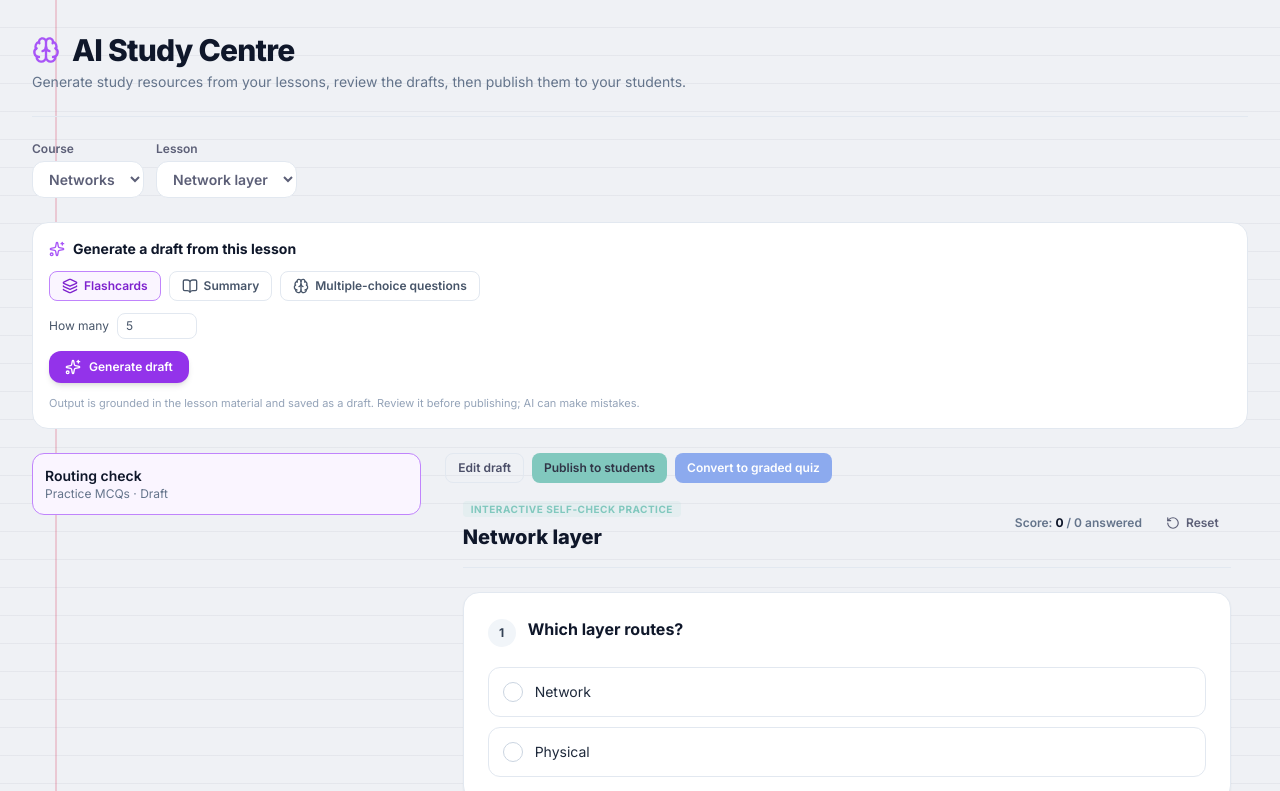
StudyCentrePage (instructor) › shows server validation problems when saving an edited draft
Click the button "Edit draft": click(485, 468) [445,452,524,482]
(page scrolled)
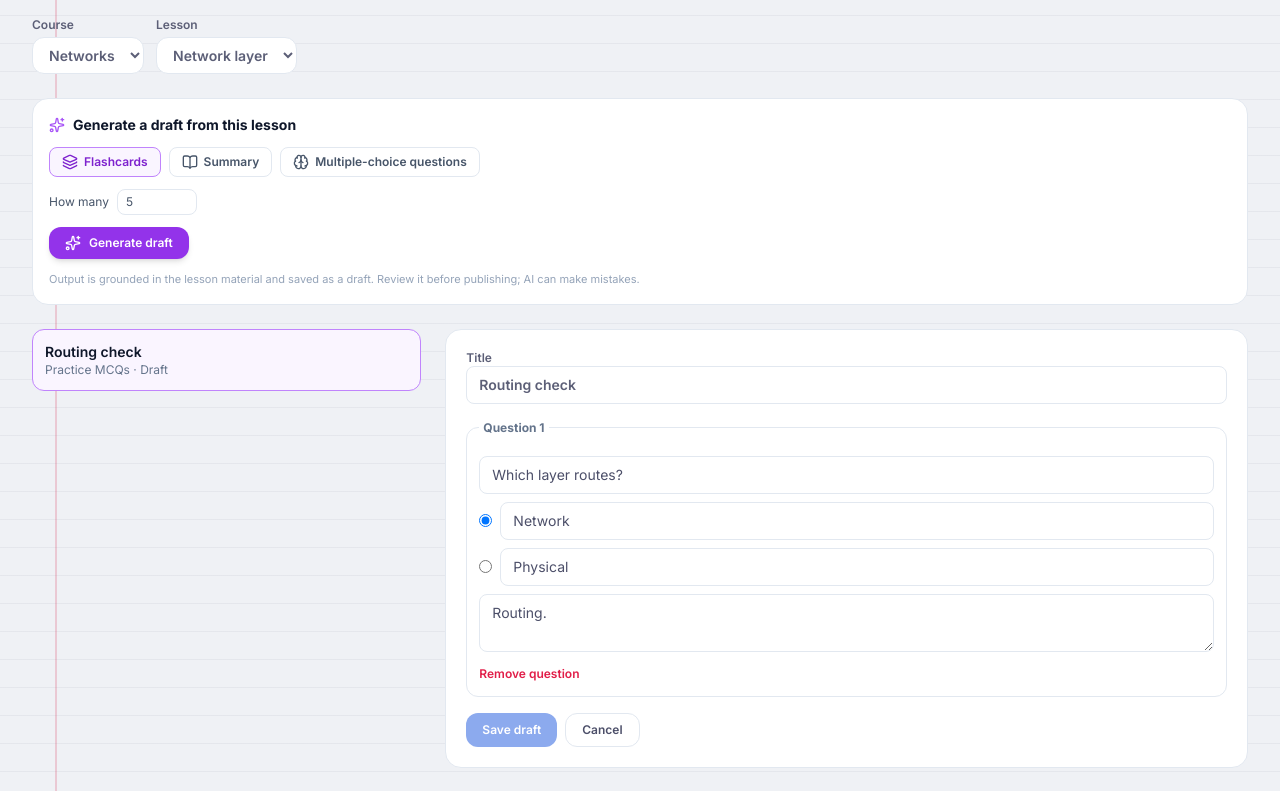
Click the button "Save draft": click(512, 730) [466,712,557,746]
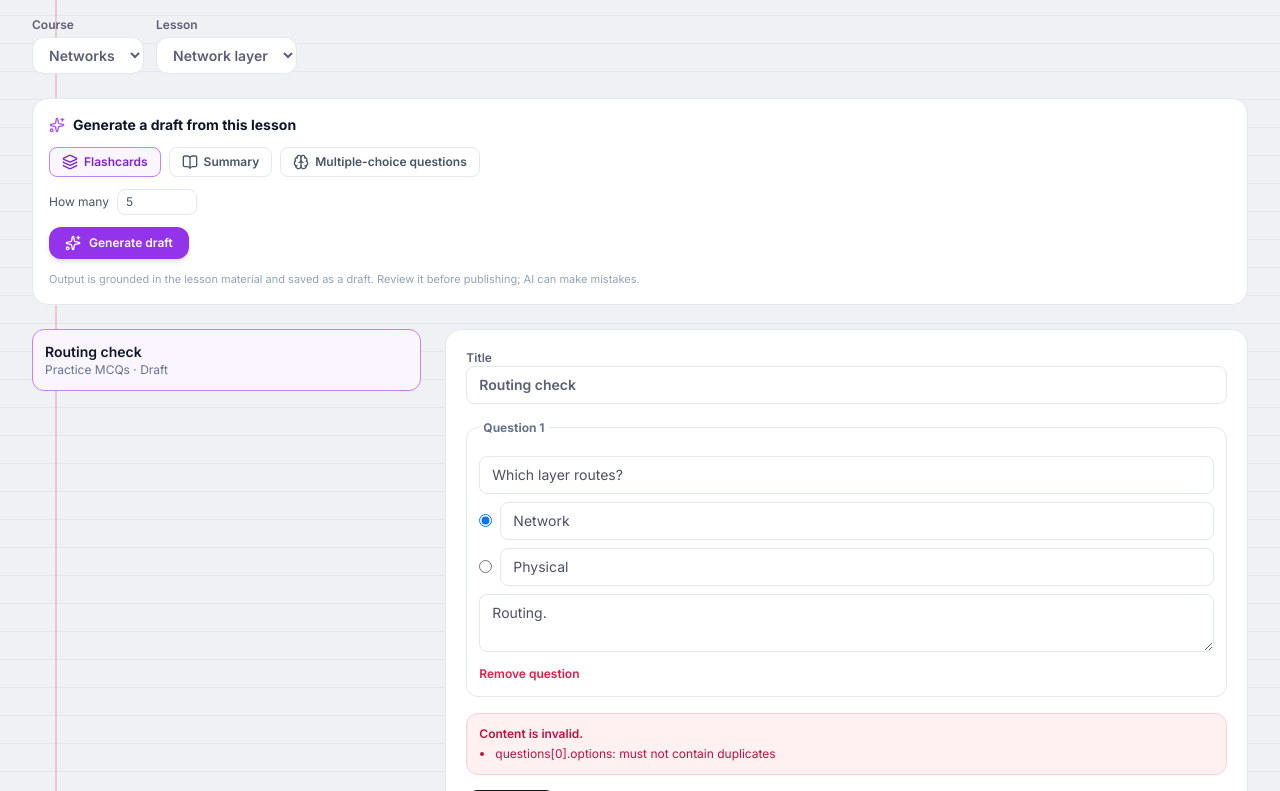
Expected: the message shows "Content is invalid.", [479,726,583,740]
Expected: the message shows "must not contain duplicates", [495,746,776,760]
